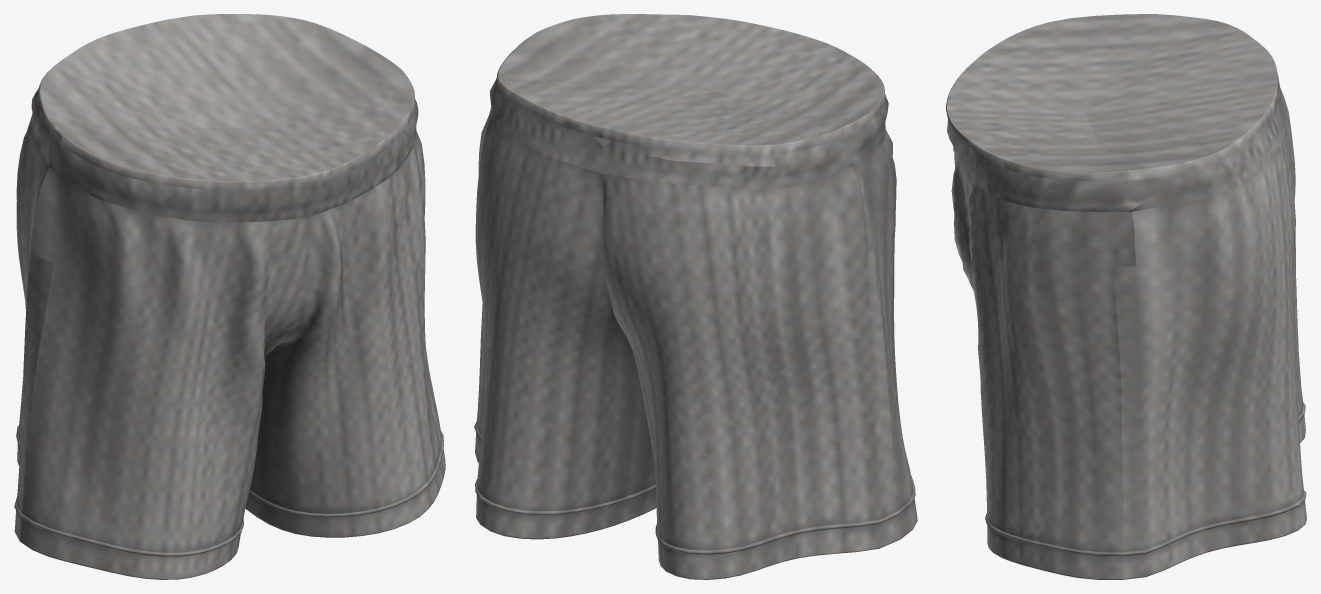
Rendered from bottom7.glb.
The picture shows the model from 3 angles, left to right: view 1: azimuth 30°, elevation 25°; view 2: azimuth 150°, elevation 25°; view 3: azimuth 270°, elevation 25°; orthographic projection. The views are drawn at different scales.
Visible parts, largest first — view 1: s4studio_mesh_1; view 2: s4studio_mesh_1; view 3: s4studio_mesh_1.
Boxes of the visible parts, left/top/right/bottom form: s4studio_mesh_1: left=14, top=14, right=445, bottom=579; s4studio_mesh_1: left=474, top=14, right=917, bottom=579; s4studio_mesh_1: left=946, top=14, right=1306, bottom=579.
Size of the model in its own units: 0.2323 by 0.2319 by 0.181.
1 material, 1 textured.
